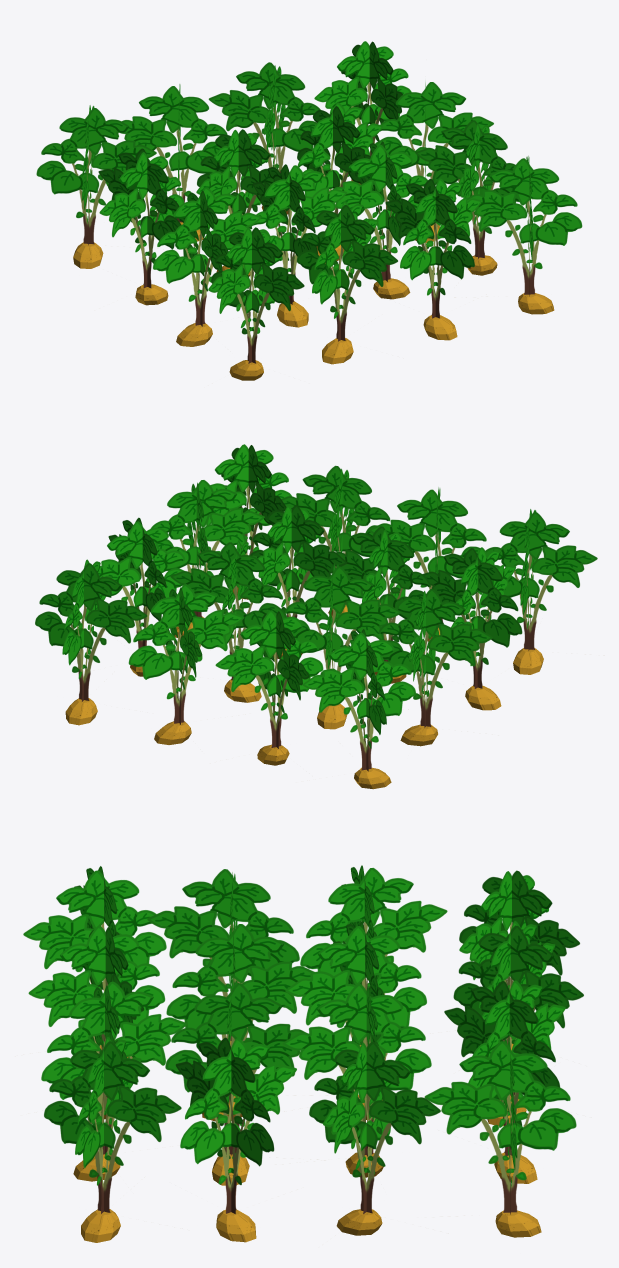
File: potato_2.glb
The picture shows the model from 3 angles, top to bottom: view 1: azimuth 30°, elevation 25°; view 2: azimuth 150°, elevation 25°; view 3: azimuth 270°, elevation 25°; orthographic projection. The views are drawn at different scales.
Visible parts, largest first — view 1: Potatoe_F3; view 2: Potatoe_F3; view 3: Potatoe_F3.
Boxes of the visible parts, left/top/right/bottom form: Potatoe_F3: left=36, top=41, right=582, bottom=380; Potatoe_F3: left=35, top=444, right=597, bottom=789; Potatoe_F3: left=23, top=865, right=583, bottom=1242.
Size of the model in its own units: 2.4 by 0.844 by 2.38.
1 material, 1 textured.
